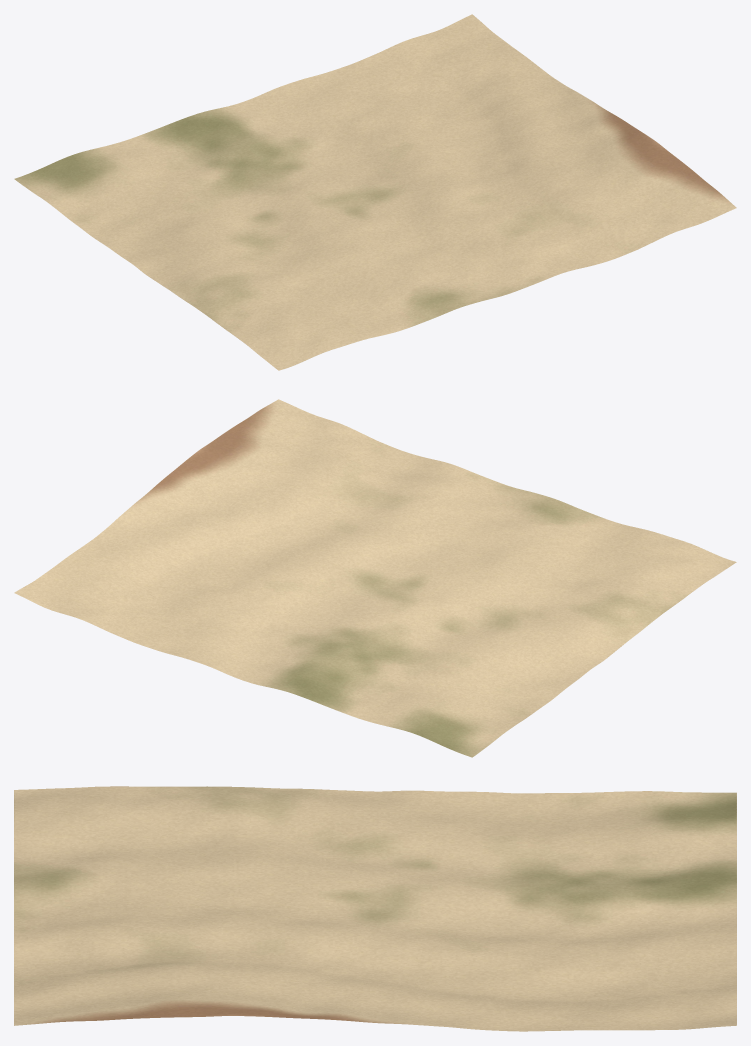
The model's file is IO_Seafloor_Test_30m.glb.
The picture shows the model from 3 angles, top to bottom: view 1: azimuth 30°, elevation 25°; view 2: azimuth 150°, elevation 25°; view 3: azimuth 270°, elevation 25°; orthographic projection. The views are drawn at different scales.
Visible parts, largest first — view 1: IO_Seafloor_Test_30m; view 2: IO_Seafloor_Test_30m; view 3: IO_Seafloor_Test_30m.
Boxes of the visible parts, x1=… form: IO_Seafloor_Test_30m: x1=14, y1=14, x2=736, y2=370; IO_Seafloor_Test_30m: x1=14, y1=399, x2=736, y2=757; IO_Seafloor_Test_30m: x1=14, y1=786, x2=736, y2=1031.
Size of the model in its own units: 30 by 3.8 by 30.
Materials: 1 (1 with a texture image).
